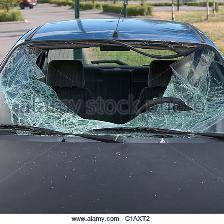glass_shatter: (3, 28, 217, 166)
